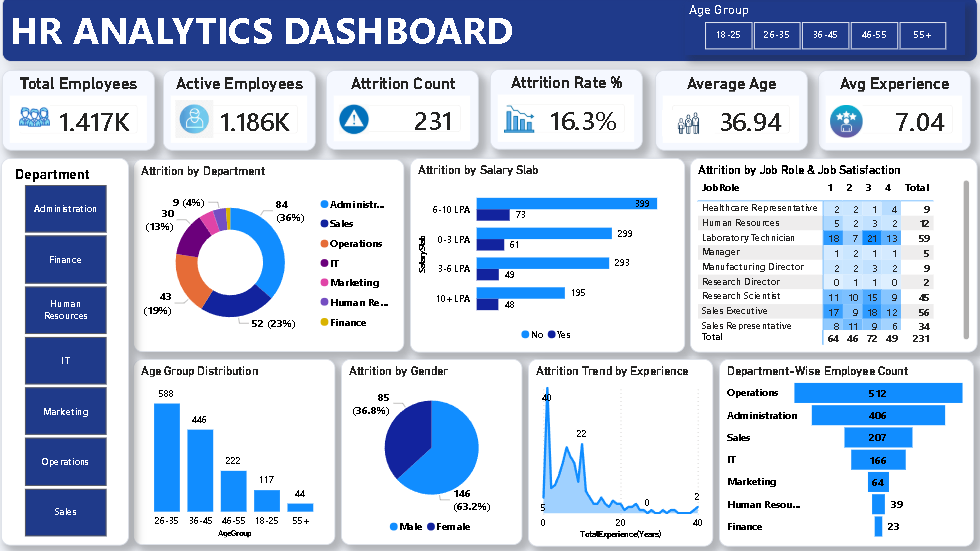

The page's visual inventory and layout, read from the dashboard file:
{"tool":"powerbi","page":{"name":"Page 1","canvas":[1280,720],"ordinal":0},"visuals":[{"type":"textbox","box":[10,0,1259,85],"z":0},{"type":"cardVisual","title":"Total Employees","fields":{"Data":["CountNonNull(HR_Analytics-4.EmpID)"]},"box":[10,95,197,104],"z":1000},{"type":"cardVisual","title":"Active Employees","fields":{"Data":["CountNonNull(HR_Analytics-4.EmployeeCount)"]},"box":[218.3,95.4,196.6,104.1],"z":2000},{"type":"cardVisual","title":"Attrition Count","fields":{"Data":["Sum(HR_Analytics-4.Attrition_Count)"]},"box":[428,95.4,196.6,102.7],"z":3000},{"type":"cardVisual","title":"Avg Experience","fields":{"Data":["Avg(HR_Analytics-4.YearsatCompany)"]},"box":[1062.7,95.4,196.6,104.1],"z":4000},{"type":"cardVisual","title":"Average Age","fields":{"Data":["Avg(HR_Analytics-4.Age)"]},"box":[853,95.4,196.6,104.1],"z":5000},{"type":"cardVisual","title":"Attrition Rate %","fields":{"Data":["HR_Analytics-4.Attrition Rate %"]},"box":[640.5,94,196.6,104.1],"z":6000},{"type":"image","box":[32.3,134.2,40,43.9],"z":7000},{"type":"image","box":[1075.1,141.1,50.4,42],"z":8000},{"type":"image","box":[658.1,139.4,38.7,38.7],"z":9000},{"type":"image","box":[440.1,139.4,48.7,38.6],"z":10000},{"type":"image","box":[861.9,129,68.4,69.7],"z":11000},{"type":"image","box":[231.3,134.5,54.9,49.2],"z":12000},{"type":"donutChart","title":"Attrition by Department","fields":{"Category":["HR_Analytics-4.Department"],"Y":["Sum(HR_Analytics-4.Attrition_Count)"]},"box":[179,210,350,249],"z":13000},{"type":"clusteredBarChart","title":"Attrition by Salary Slab","fields":{"Category":["HR_Analytics-4.SalarySlab"],"Y":["CountNonNull(HR_Analytics-4.EmpID)"],"Series":["HR_Analytics-4.Attrition"]},"box":[537,209,355,251],"z":14000},{"type":"pivotTable","title":"Attrition by Job Role & Job Satisfaction","fields":{"Rows":["HR_Analytics-4.JobRole"],"Values":["Sum(HR_Analytics-4.Attrition_Count)"],"Columns":["HR_Analytics-4.JobSatisfaction"]},"box":[898,209,371,251],"z":15000},{"type":"columnChart","title":"Age Group Distribution","fields":{"Category":["HR_Analytics-4.AgeGroup"],"Y":["Sum(HR_Analytics-4.EmployeeCount)"]},"box":[179,469,261,240],"z":16000},{"type":"pieChart","title":"Attrition by Gender","fields":{"Category":["HR_Analytics-4.Gender"],"Y":["Sum(HR_Analytics-4.Attrition_Count)"]},"box":[448,469,234,240],"z":17000},{"type":"areaChart","title":"Attrition Trend by Experience","fields":{"Category":["HR_Analytics-4.TotalExperience(Years)"],"Y2":["Sum(HR_Analytics-4.Attrition_Count)"]},"box":[689,469,239,242],"z":18000},{"type":"funnel","title":"Department-Wise Employee Count","fields":{"Category":["HR_Analytics-4.Department"],"Y":["CountNonNull(HR_Analytics-4.EmpID)"]},"box":[935.6,468.7,329.2,241.9],"z":19000},{"type":"slicer","fields":{"Values":["HR_Analytics-4.Department"]},"box":[9,209,165,500],"z":20000},{"type":"slicer","title":"Age Group","fields":{"Values":["HR_Analytics-4.AgeGroup"]},"box":[892,7.2,361.4,68],"z":21000}]}

Visuals, with their boxes in screenshot pixels (x1, y1, x2, y2), scaled from the page's 1280x720 canvas onto the 980x551 screenshot:
textbox: region(8, 0, 972, 65)
"Total Employees" cardVisual: region(8, 73, 158, 152)
"Active Employees" cardVisual: region(167, 73, 318, 153)
"Attrition Count" cardVisual: region(328, 73, 478, 152)
"Avg Experience" cardVisual: region(814, 73, 964, 153)
"Average Age" cardVisual: region(653, 73, 804, 153)
"Attrition Rate %" cardVisual: region(490, 72, 641, 152)
image: region(25, 103, 55, 136)
image: region(823, 108, 862, 140)
image: region(504, 107, 533, 136)
image: region(337, 107, 374, 136)
image: region(660, 99, 712, 152)
image: region(177, 103, 219, 141)
"Attrition by Department" donutChart: region(137, 161, 405, 351)
"Attrition by Salary Slab" clusteredBarChart: region(411, 160, 683, 352)
"Attrition by Job Role & Job Satisfaction" pivotTable: region(688, 160, 972, 352)
"Age Group Distribution" columnChart: region(137, 359, 337, 543)
"Attrition by Gender" pieChart: region(343, 359, 522, 543)
"Attrition Trend by Experience" areaChart: region(528, 359, 710, 544)
"Department-Wise Employee Count" funnel: region(716, 359, 968, 544)
slicer - HR_Analytics-4.Department: region(7, 160, 133, 543)
"Age Group" slicer: region(683, 6, 960, 58)
